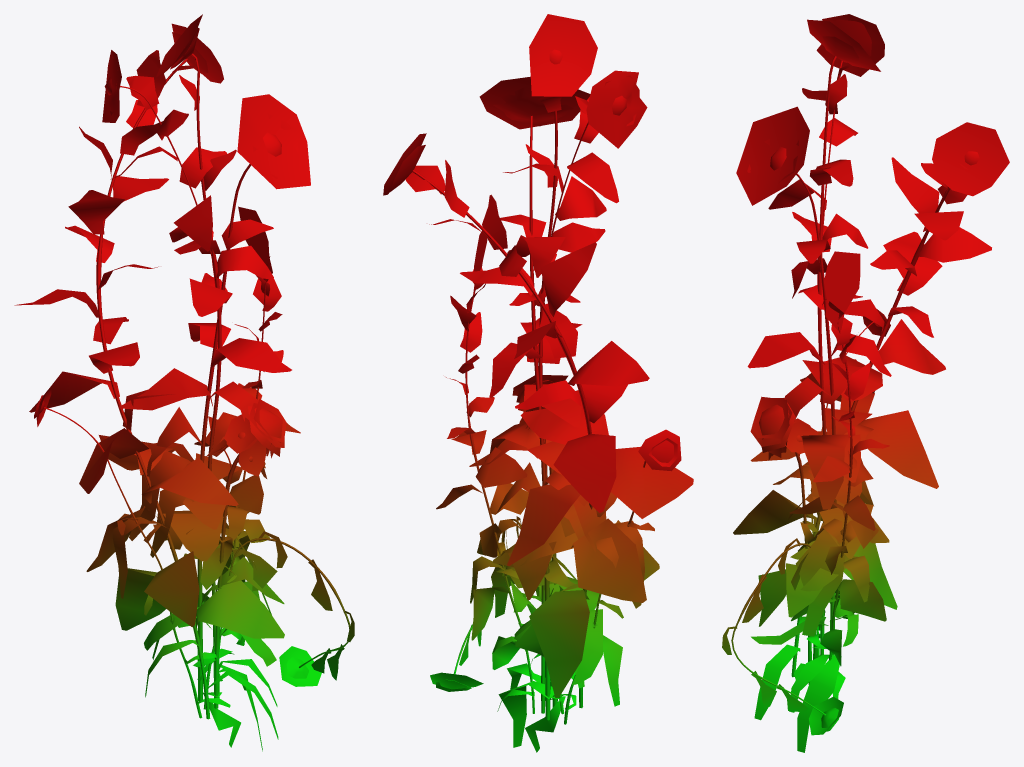
Rendered from Crownbeard_LOD1_Var5_tefoajkr.fbx.
The picture shows the model from 3 angles, left to right: view 1: azimuth 30°, elevation 25°; view 2: azimuth 150°, elevation 25°; view 3: azimuth 270°, elevation 25°; orthographic projection. The views are drawn at different scales.
Visible parts, largest first — view 1: _b695_Var5_LOD1; view 2: _b695_Var5_LOD1; view 3: _b695_Var5_LOD1.
Boxes of the visible parts, bbox=[...] form: _b695_Var5_LOD1: bbox=[14, 14, 354, 751]; _b695_Var5_LOD1: bbox=[383, 14, 693, 752]; _b695_Var5_LOD1: bbox=[722, 14, 1009, 752].
Size of the model in its own units: 34.22 by 91.35 by 33.59.
